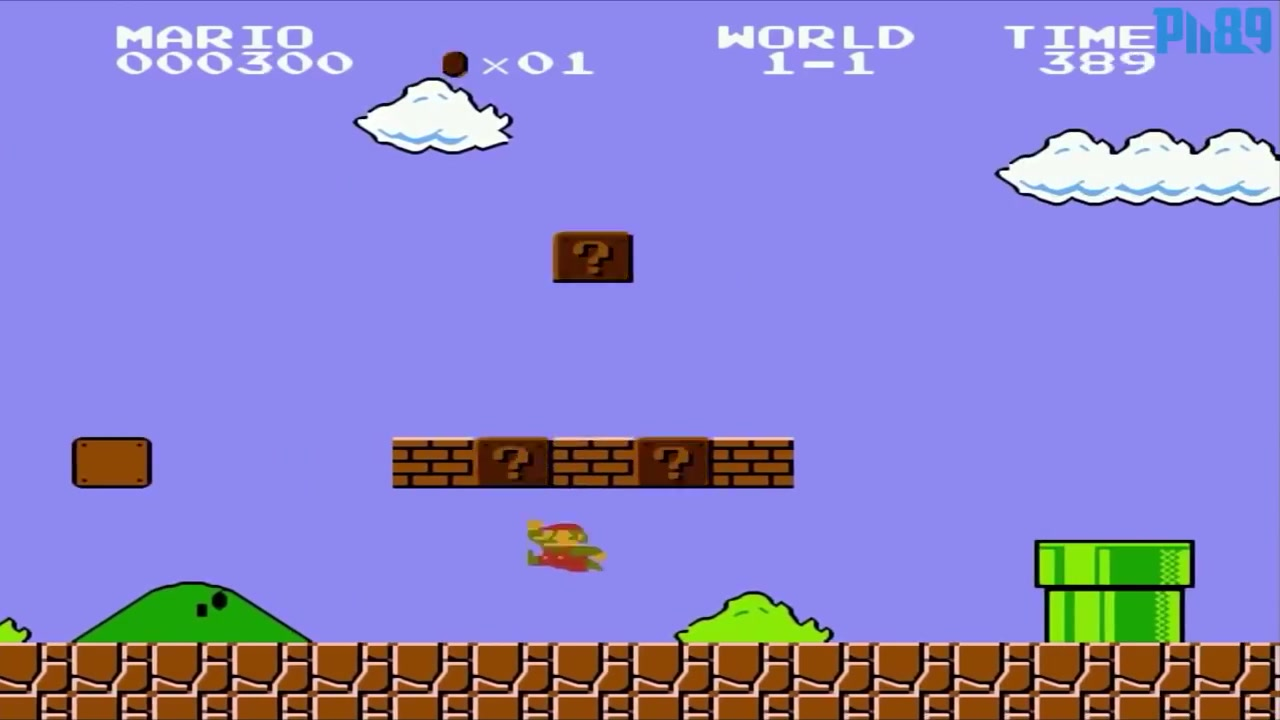mario: (519, 513, 609, 577)
